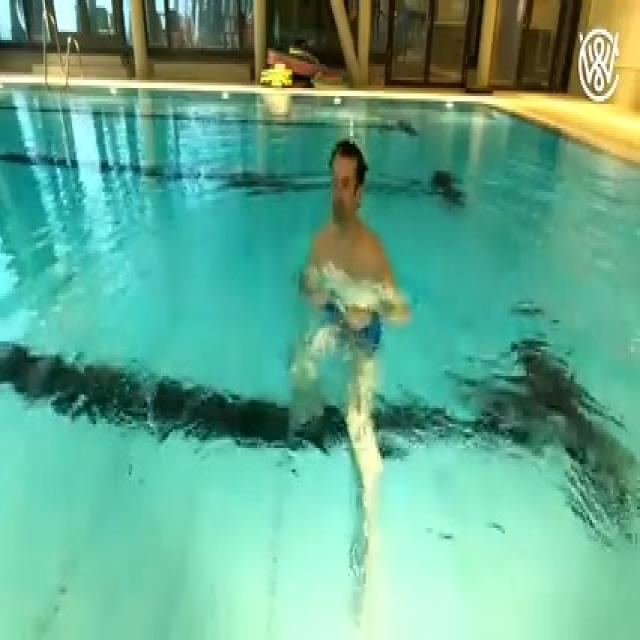Swimming: (294, 133, 408, 542)
